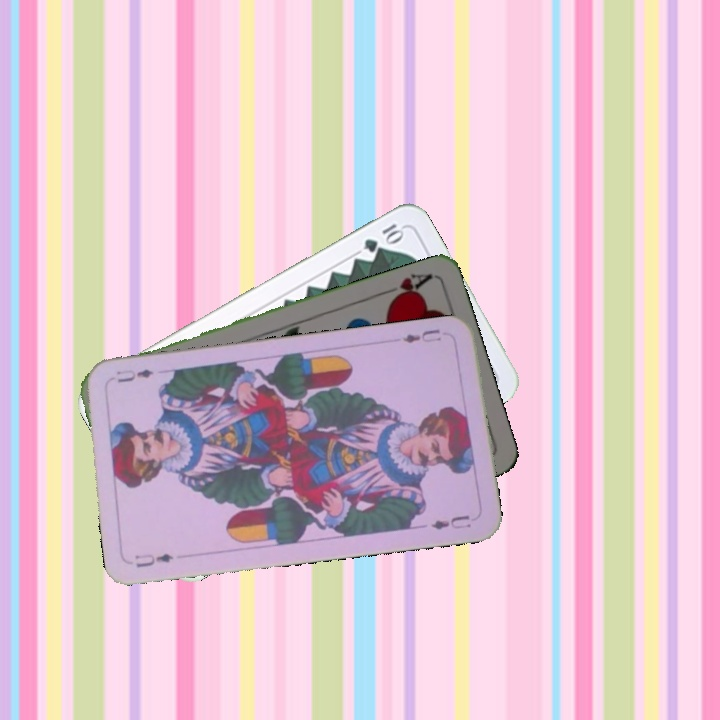EU: (398, 325, 444, 346), (131, 549, 176, 570)
G10: (359, 219, 407, 255)
HA: (377, 269, 435, 306)
